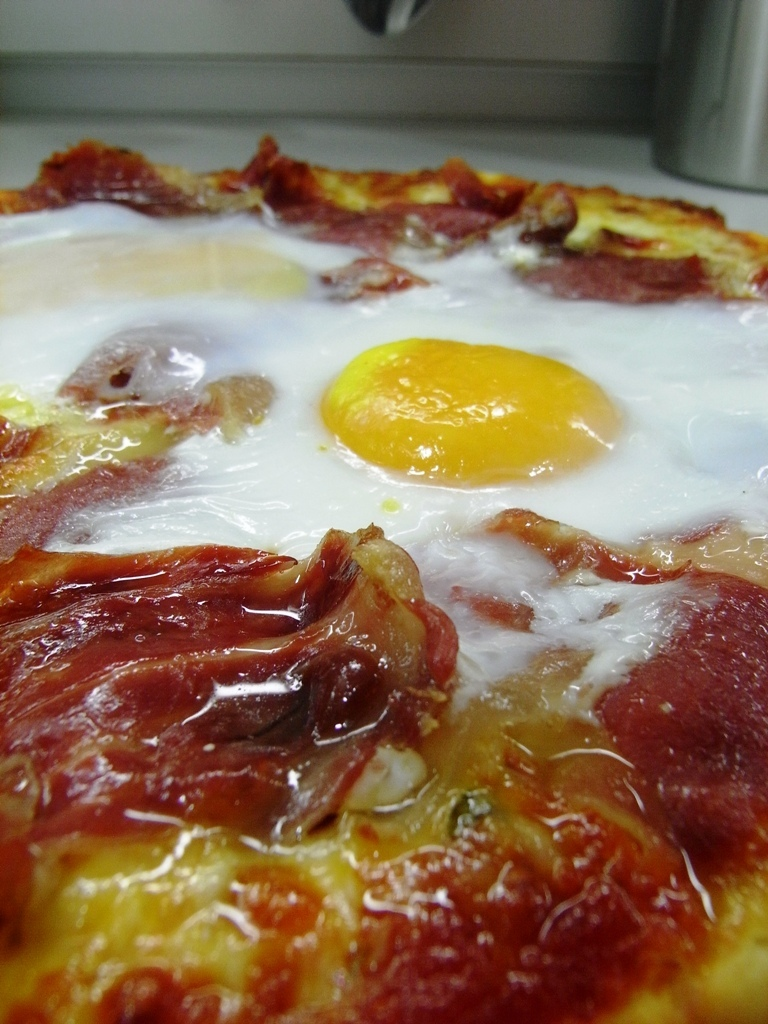Pizza: (0, 195, 768, 1008)
